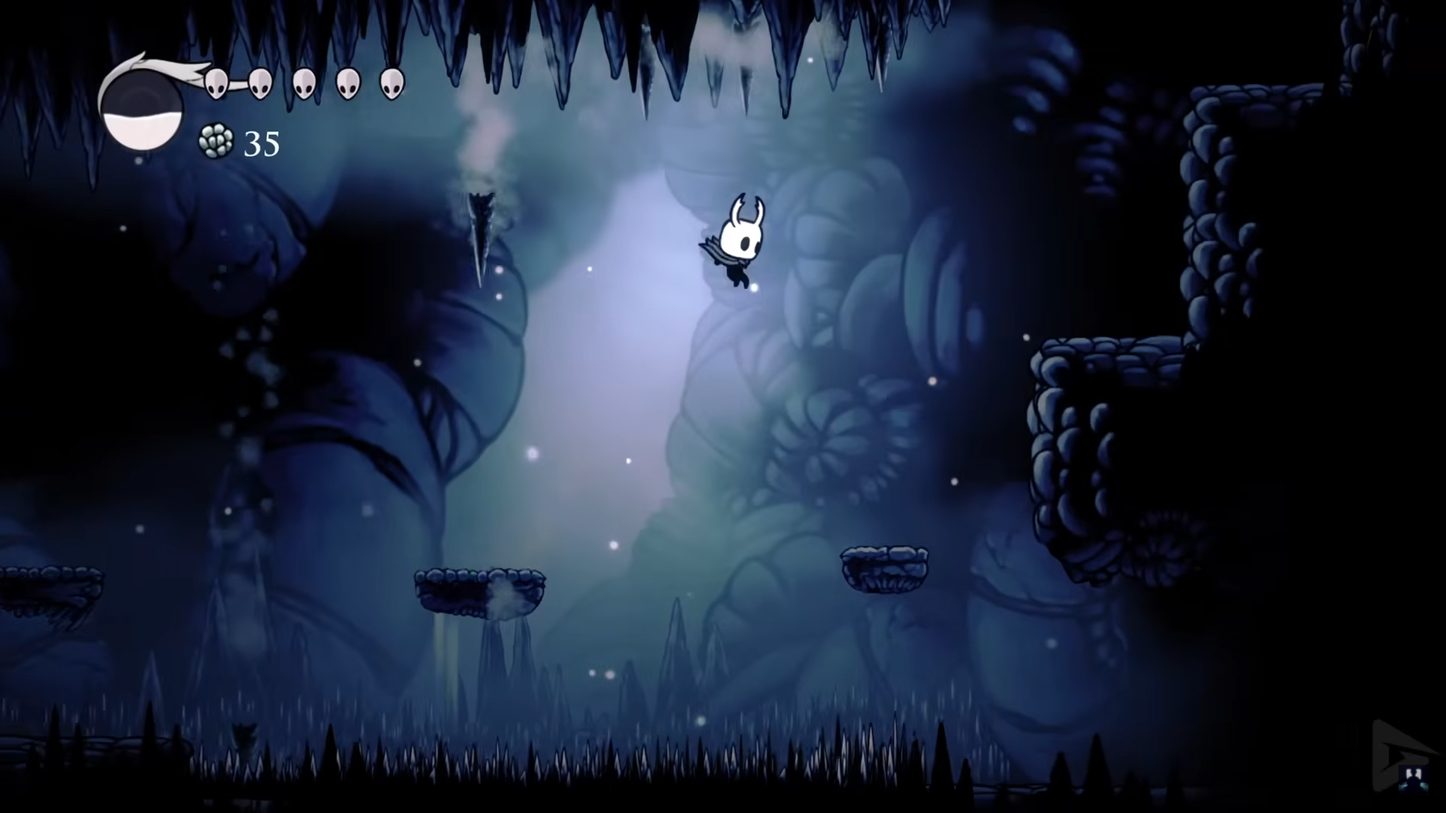HK: (705, 190, 770, 289)
